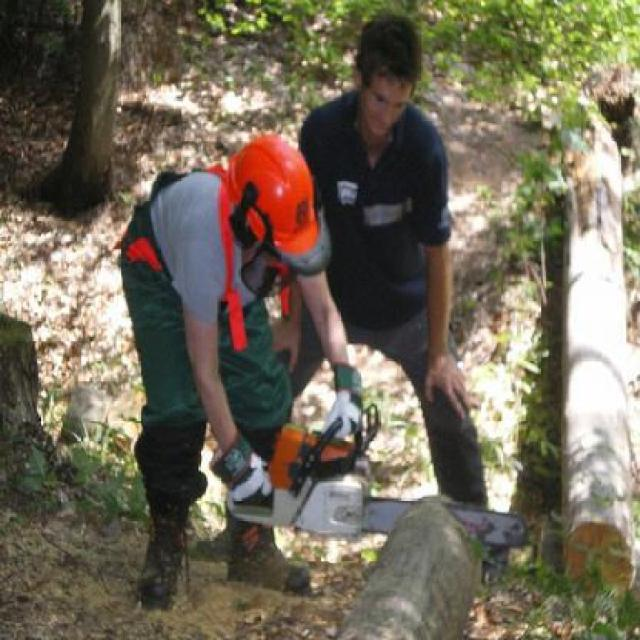Chainsaw: (225, 406, 529, 548)
